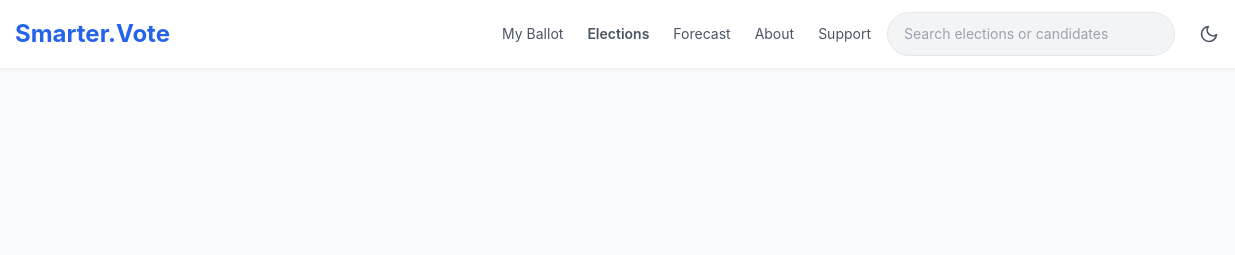
it: SiteHeader keyboard navigation › closes the panel on Escape
Type "Missouri" into the dropdown with id "site-search". click: (1031, 34)
box: [887,12,1175,56]
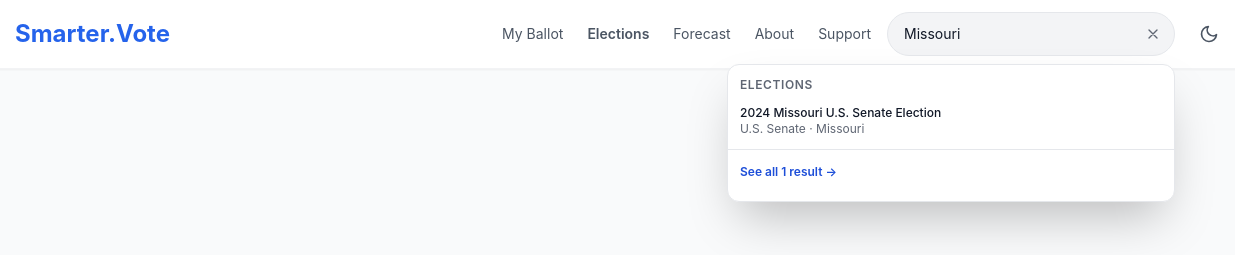
Expected: the list with id "site-search-results" is shown, [727,64,1175,202]
Press Escape in the dropdown with id "site-search", box [887,12,1175,56]
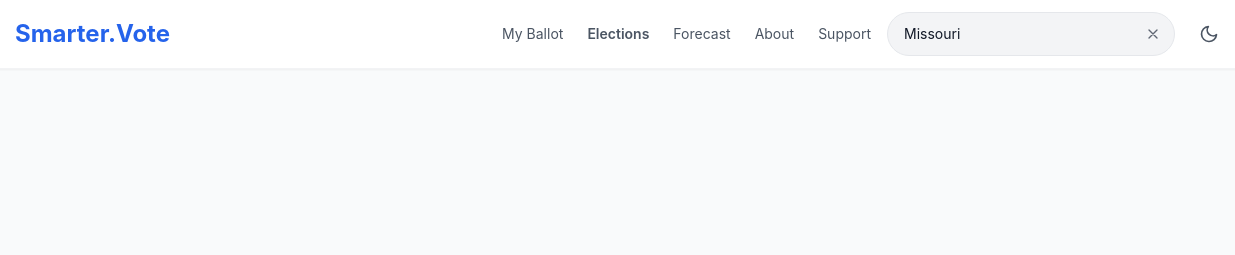
Expected: the list with id "site-search-results" is gone
